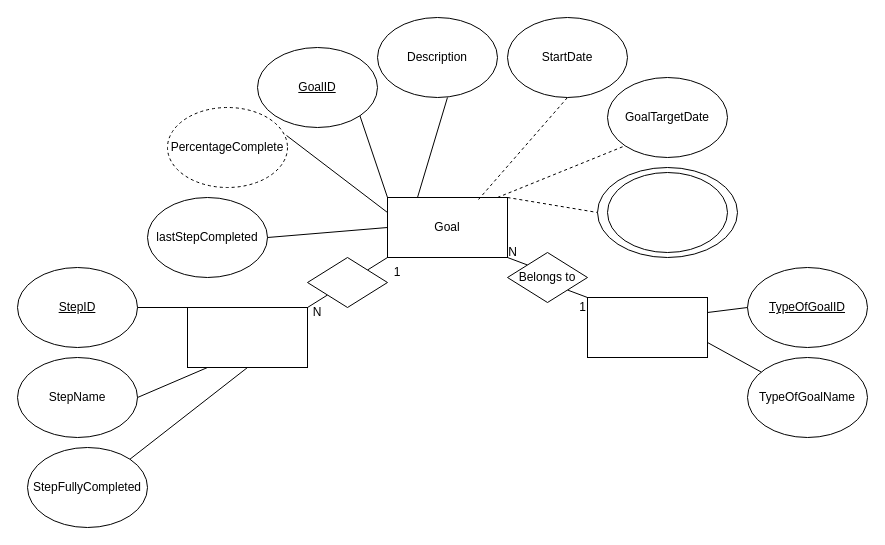
Some shapes in this 885 by 545 pixel diagram are drawn without their labels. The centre of each missing label's shape, as x and y in pixels:
"Includes" belongs at point 347,282.
"PriorityLevel" belongs at point 667,212.
"Step" belongs at point 247,337.
"TypeOfGoal" belongs at point 647,327.
